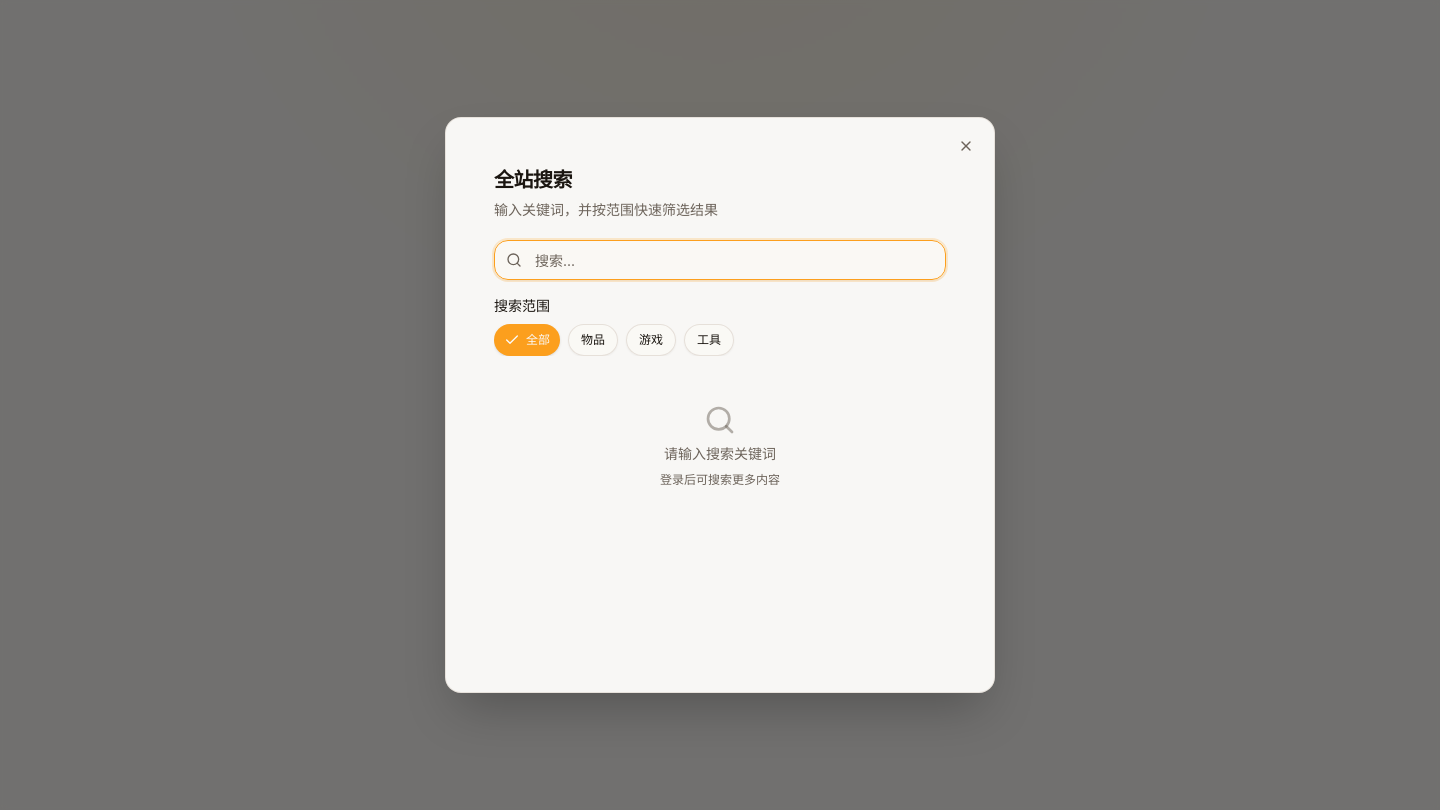
Test: SearchDialog › search functionality › should clear search results when search term is empty
Step 1. Type "俄罗斯" into the field with placeholder "搜索..." → coordinates (720, 260), box x1=494 y1=240 x2=946 y2=280
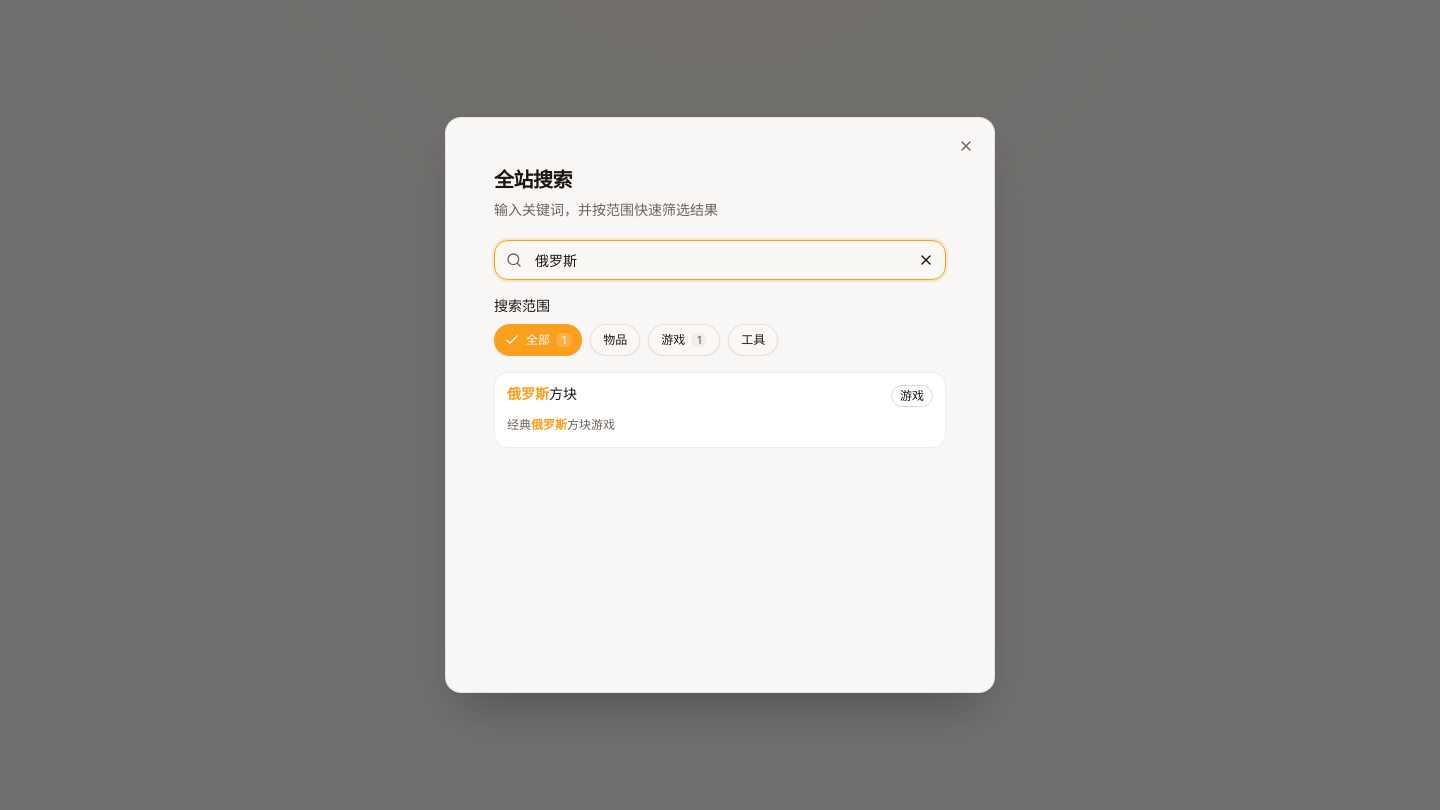
Expected: the button "俄罗斯方块 游戏 经典俄罗斯方块游戏" is shown, x1=494 y1=372 x2=946 y2=448
Step 2. Clear the field with placeholder "搜索..." → coordinates (720, 260), box x1=494 y1=240 x2=946 y2=280
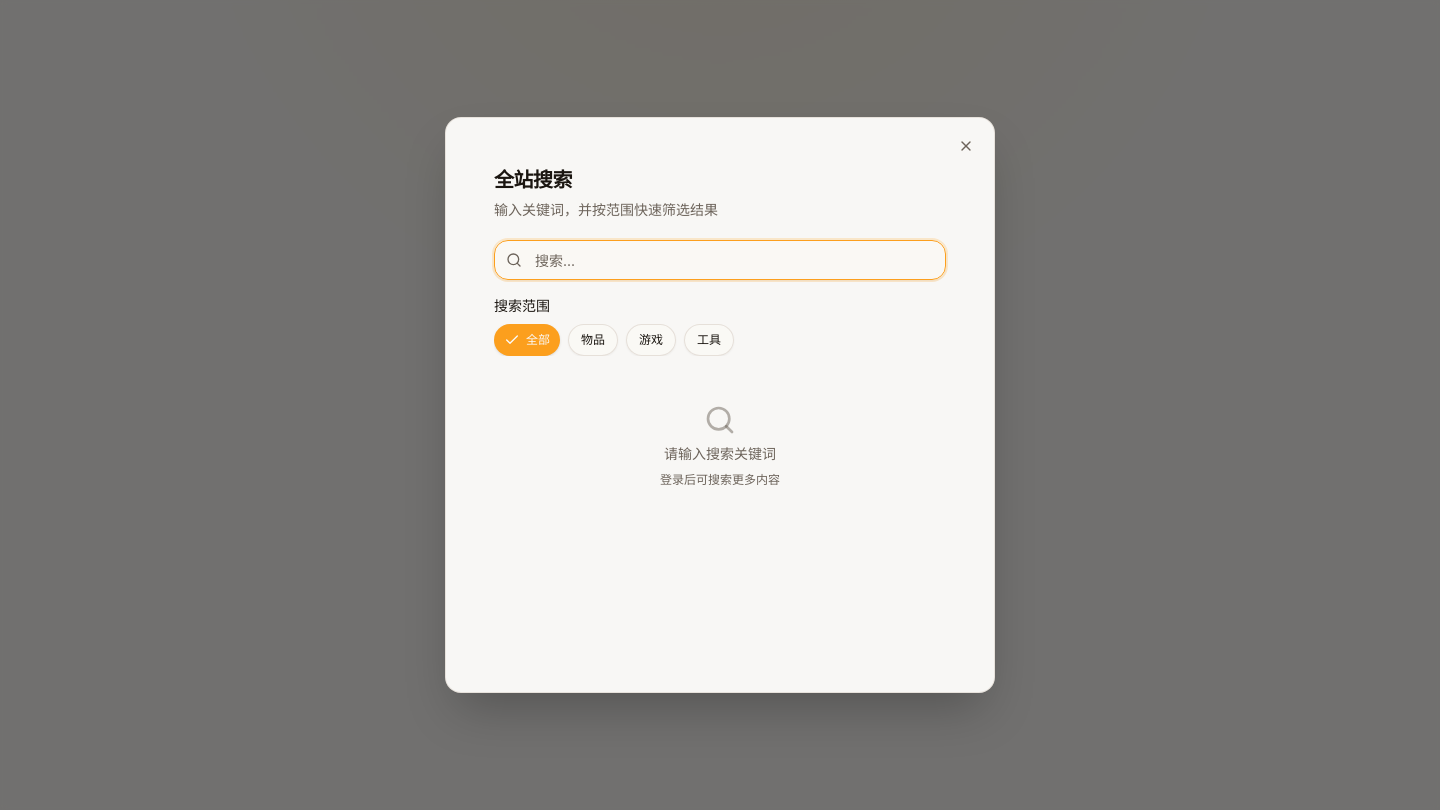
Expected: the button "俄罗斯方块" is gone
